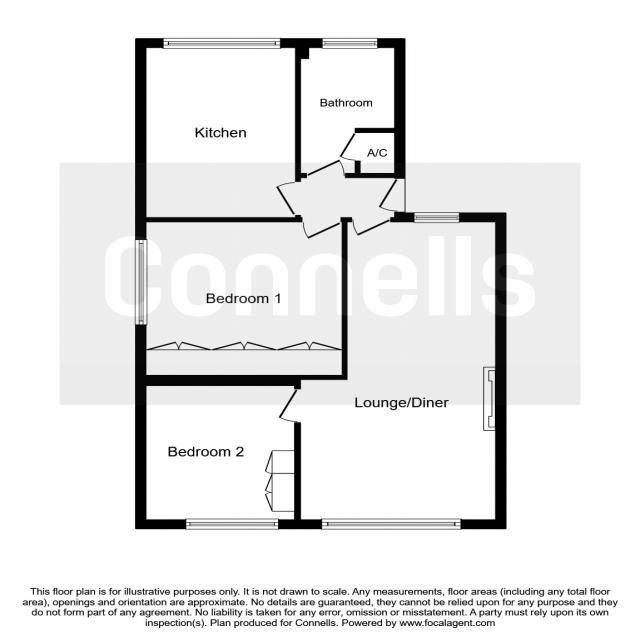DOOR: (377, 177, 407, 213), (273, 180, 302, 217), (276, 387, 302, 424), (301, 216, 341, 240), (350, 216, 393, 237), (305, 158, 346, 179)
ROOM: (277, 211, 507, 530), (134, 216, 349, 386), (135, 38, 301, 222), (134, 375, 302, 530)
WINDOW: (320, 518, 462, 530), (161, 37, 282, 49), (134, 238, 148, 326), (184, 518, 279, 530), (321, 37, 379, 49), (413, 212, 460, 224)
